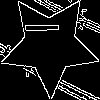I: (25, 20, 68, 35)
